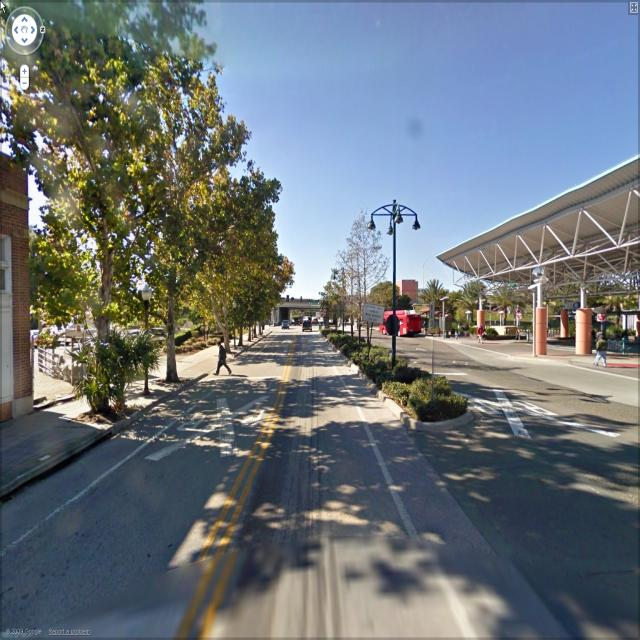b_2: (1, 147, 54, 419)
